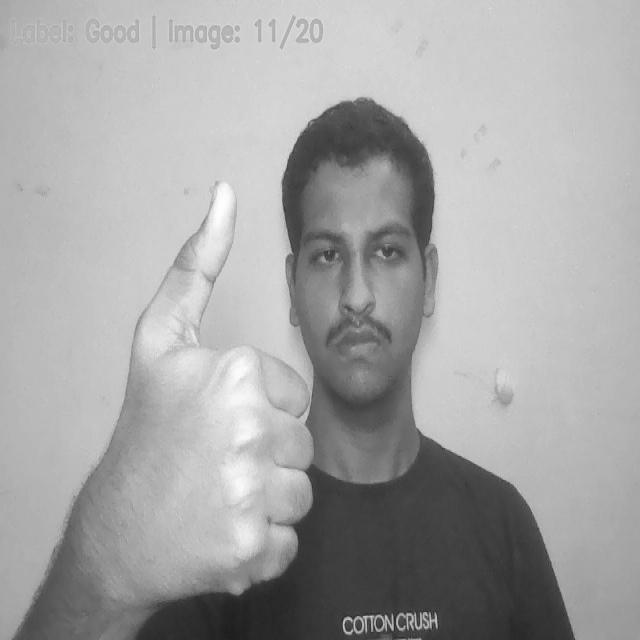Good: (109, 181, 316, 596)
